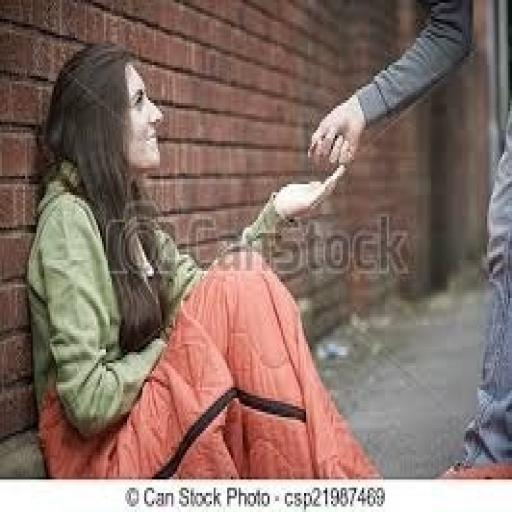sleeping: (23, 38, 381, 479), (304, 0, 510, 477)
